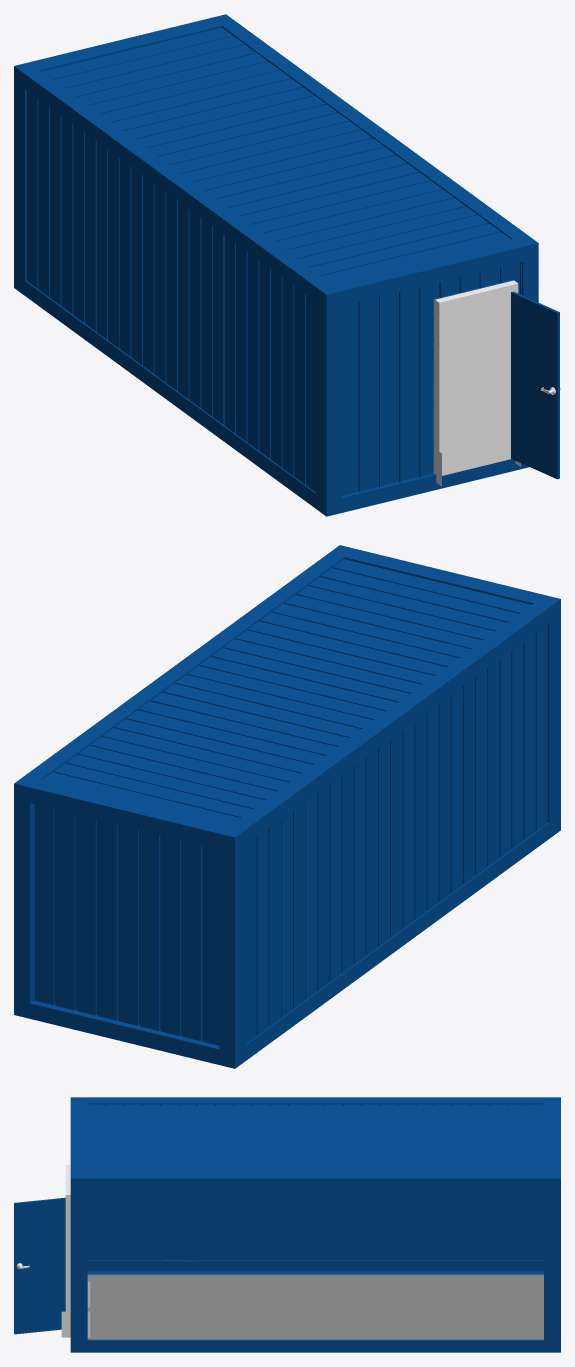
The model's file is CTX CONTAINER 2.glb.
The picture shows the model from 3 angles, top to bottom: view 1: azimuth 30°, elevation 25°; view 2: azimuth 150°, elevation 25°; view 3: azimuth 270°, elevation 25°; orthographic projection. The views are drawn at different scales.
Visible parts, largest first — view 1: hinten.001, Dach, Gerüst, kurz l, CTRL_Hole, Door; view 2: hinten.001, Dach, Gerüst, kurz r; view 3: Gerüst, hinten.001, Dach, Boden, Door, CTRL_Hole, CTRL_Baseboard.
Boxes of the visible parts, x1,y1,x2,y2 form: hinten.001: (26, 90, 315, 491); Dach: (42, 27, 510, 282); Gerüst: (14, 14, 538, 516); kurz l: (341, 262, 521, 495); CTRL_Hole: (433, 280, 518, 476); Door: (511, 291, 559, 479); hinten.001: (246, 624, 547, 1043); Dach: (43, 559, 530, 825); Gerüst: (14, 545, 560, 1068); kurz r: (34, 804, 219, 1045); Gerüst: (70, 1097, 560, 1352); hinten.001: (87, 1190, 543, 1261); Dach: (87, 1104, 543, 1172); Boden: (87, 1274, 543, 1339); Door: (14, 1197, 65, 1334); CTRL_Hole: (65, 1164, 70, 1330); CTRL_Baseboard: (61, 1281, 90, 1337).
Size of the model in its own units: 2.35 by 2.35 by 6.69.
